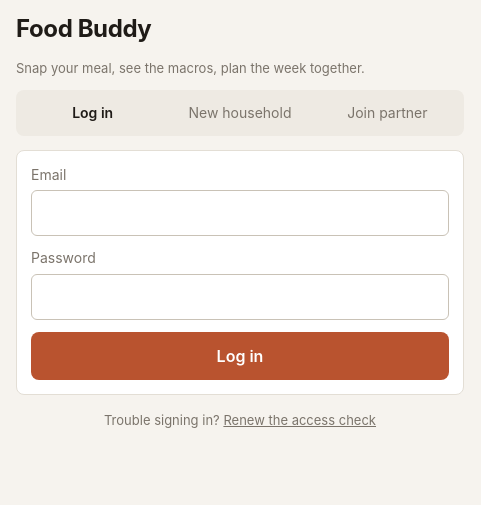
it: LoginPage › shows the error from a failed login and stays on the page
Type "t@example.com" into the field labelled "Email". click: (240, 213)
box: x1=31 y1=190 x2=449 y2=236
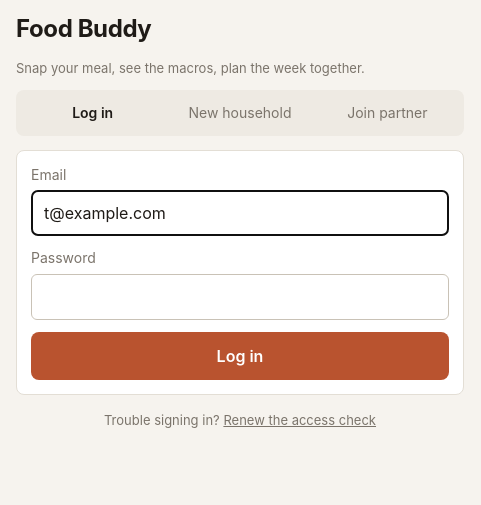
Type "nope" into the password field labelled "Password". click: (240, 297)
box: x1=31 y1=274 x2=449 y2=320
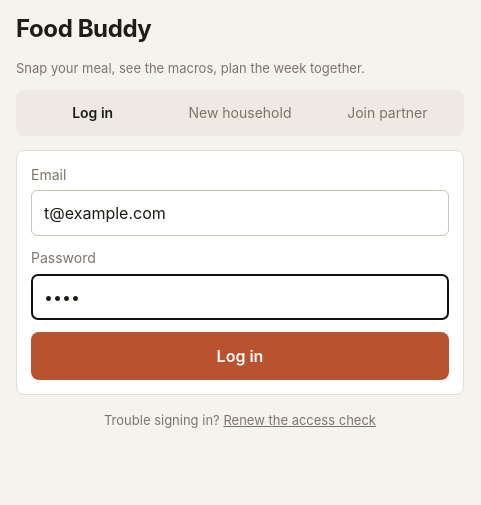
Click the button "Log in" below "Password". click: (240, 356)
box: x1=31 y1=332 x2=449 y2=380
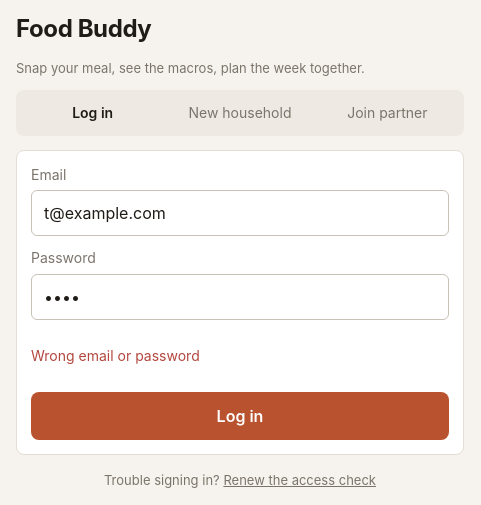
Expected: the message reads "Wrong email or password", x1=31 y1=347 x2=200 y2=364
